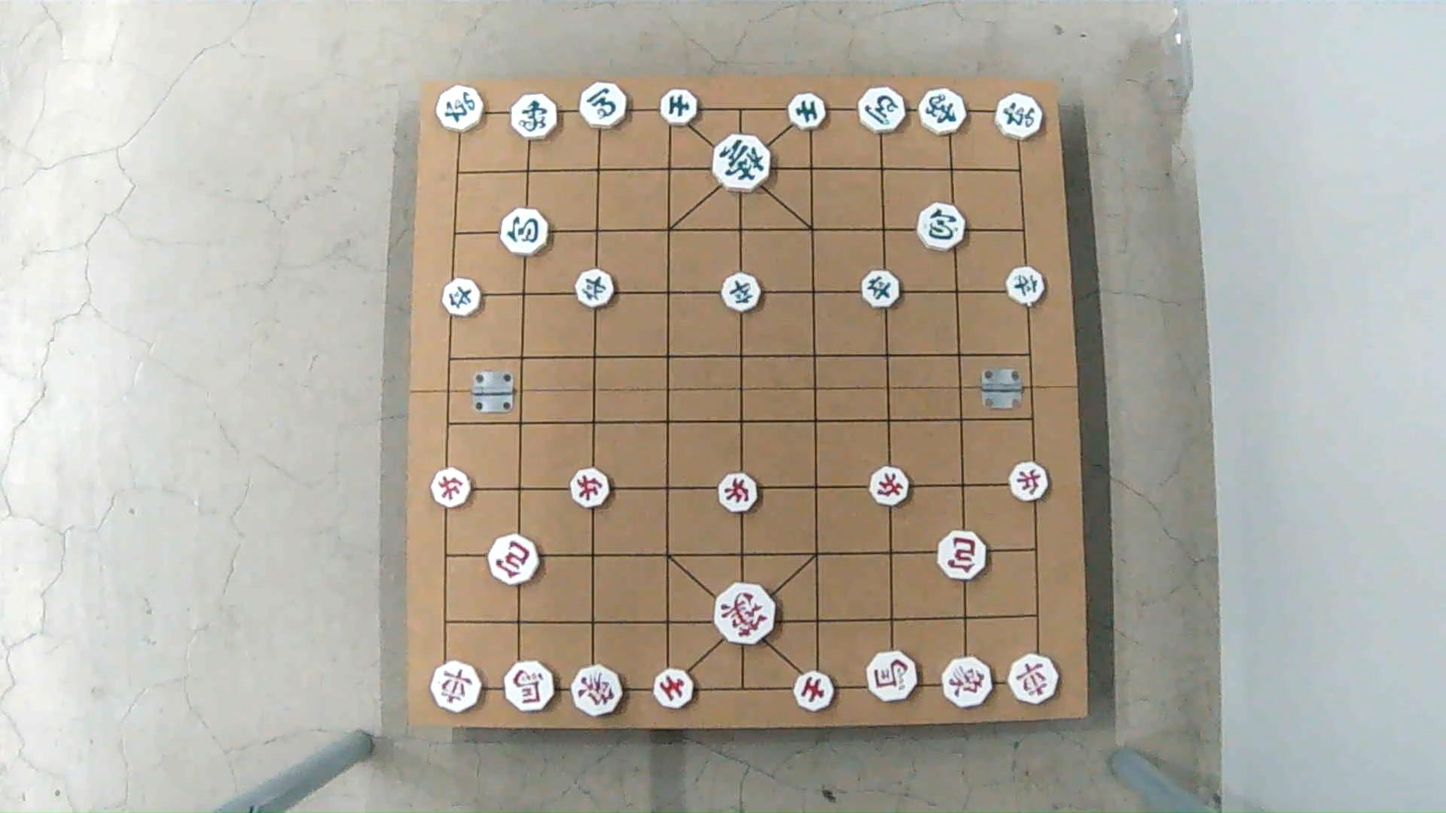cha_green: (435, 87, 485, 134), (996, 95, 1042, 140)
cha_red: (429, 663, 484, 711), (1007, 656, 1062, 703)
jol_green: (439, 277, 484, 315), (861, 271, 905, 306), (572, 269, 616, 304), (718, 276, 761, 310), (1004, 269, 1046, 303)
jol_red: (716, 475, 761, 512), (867, 470, 913, 506), (568, 470, 613, 506), (1005, 466, 1048, 502), (429, 470, 472, 505)
ma_green: (579, 84, 630, 127), (857, 87, 908, 130)
ma_red: (862, 650, 919, 702), (501, 663, 557, 710)
po_green: (498, 207, 551, 256), (914, 204, 966, 248)
po_red: (938, 533, 991, 578), (487, 537, 539, 582)
sa_green: (657, 87, 700, 126), (788, 93, 828, 129)
sa_red: (793, 672, 837, 713), (652, 670, 695, 711)
sang_green: (917, 90, 969, 134), (508, 96, 558, 139)
sang_red: (572, 667, 629, 716), (941, 659, 996, 707)
wang_green: (712, 134, 773, 187)
wang_red: (712, 588, 775, 645)
